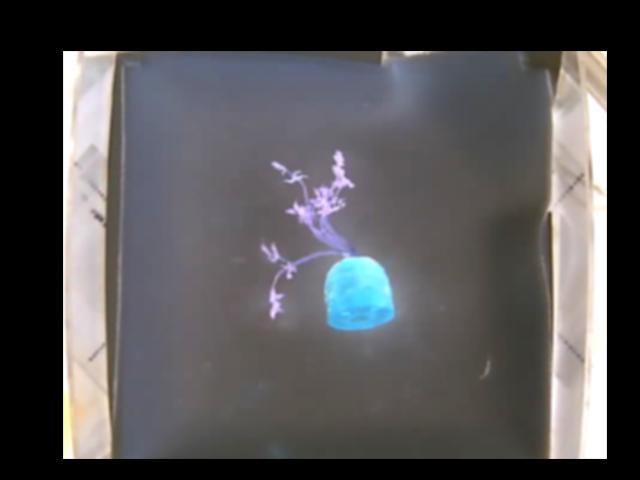Carrot: (263, 151, 393, 329)
